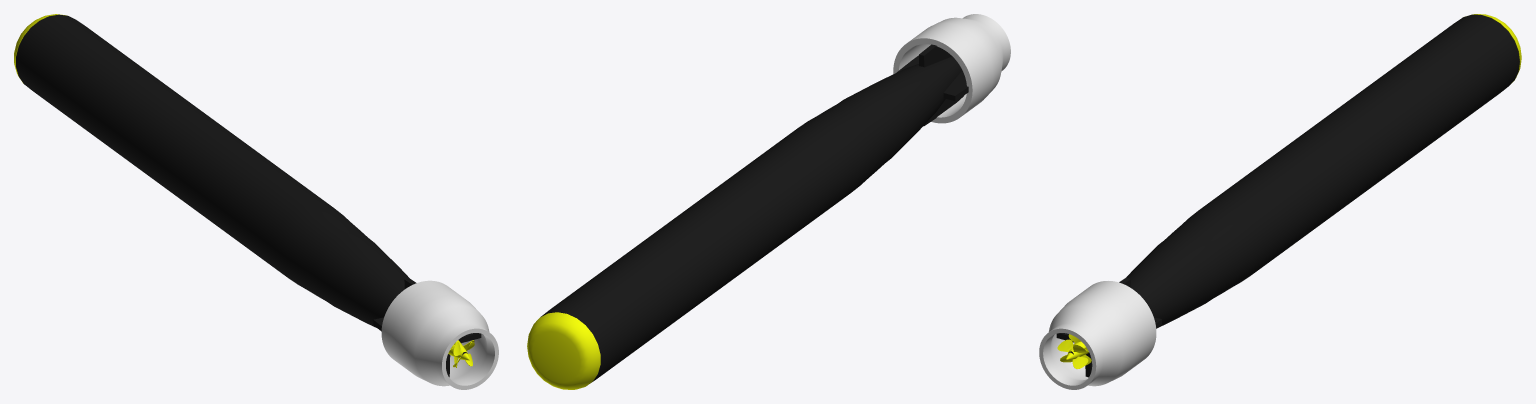
The model's file is Torpedo.FBX.
The picture shows the model from 3 angles, left to right: view 1: azimuth 30°, elevation 25°; view 2: azimuth 150°, elevation 25°; view 3: azimuth 330°, elevation 25°; orthographic projection.
Parts seen in each view (by area): view 1: corpotorpedo, Tube001; view 2: corpotorpedo, Tube001, cabecacomb, lemetorpcima, lemetorpbb; view 3: corpotorpedo, Tube001.
Part boxes in pixels (bbox=[...]): corpotorpedo: bbox=[16, 14, 467, 355]; Tube001: bbox=[381, 280, 498, 389]; corpotorpedo: bbox=[541, 56, 962, 382]; Tube001: bbox=[893, 14, 1010, 123]; cabecacomb: bbox=[527, 312, 600, 389]; lemetorpcima: bbox=[919, 44, 952, 67]; lemetorpbb: bbox=[943, 70, 968, 101]; corpotorpedo: bbox=[1068, 14, 1519, 354]; Tube001: bbox=[1039, 281, 1156, 389].
Size of the model in its own units: 1.3 by 1.3 by 12.19.
